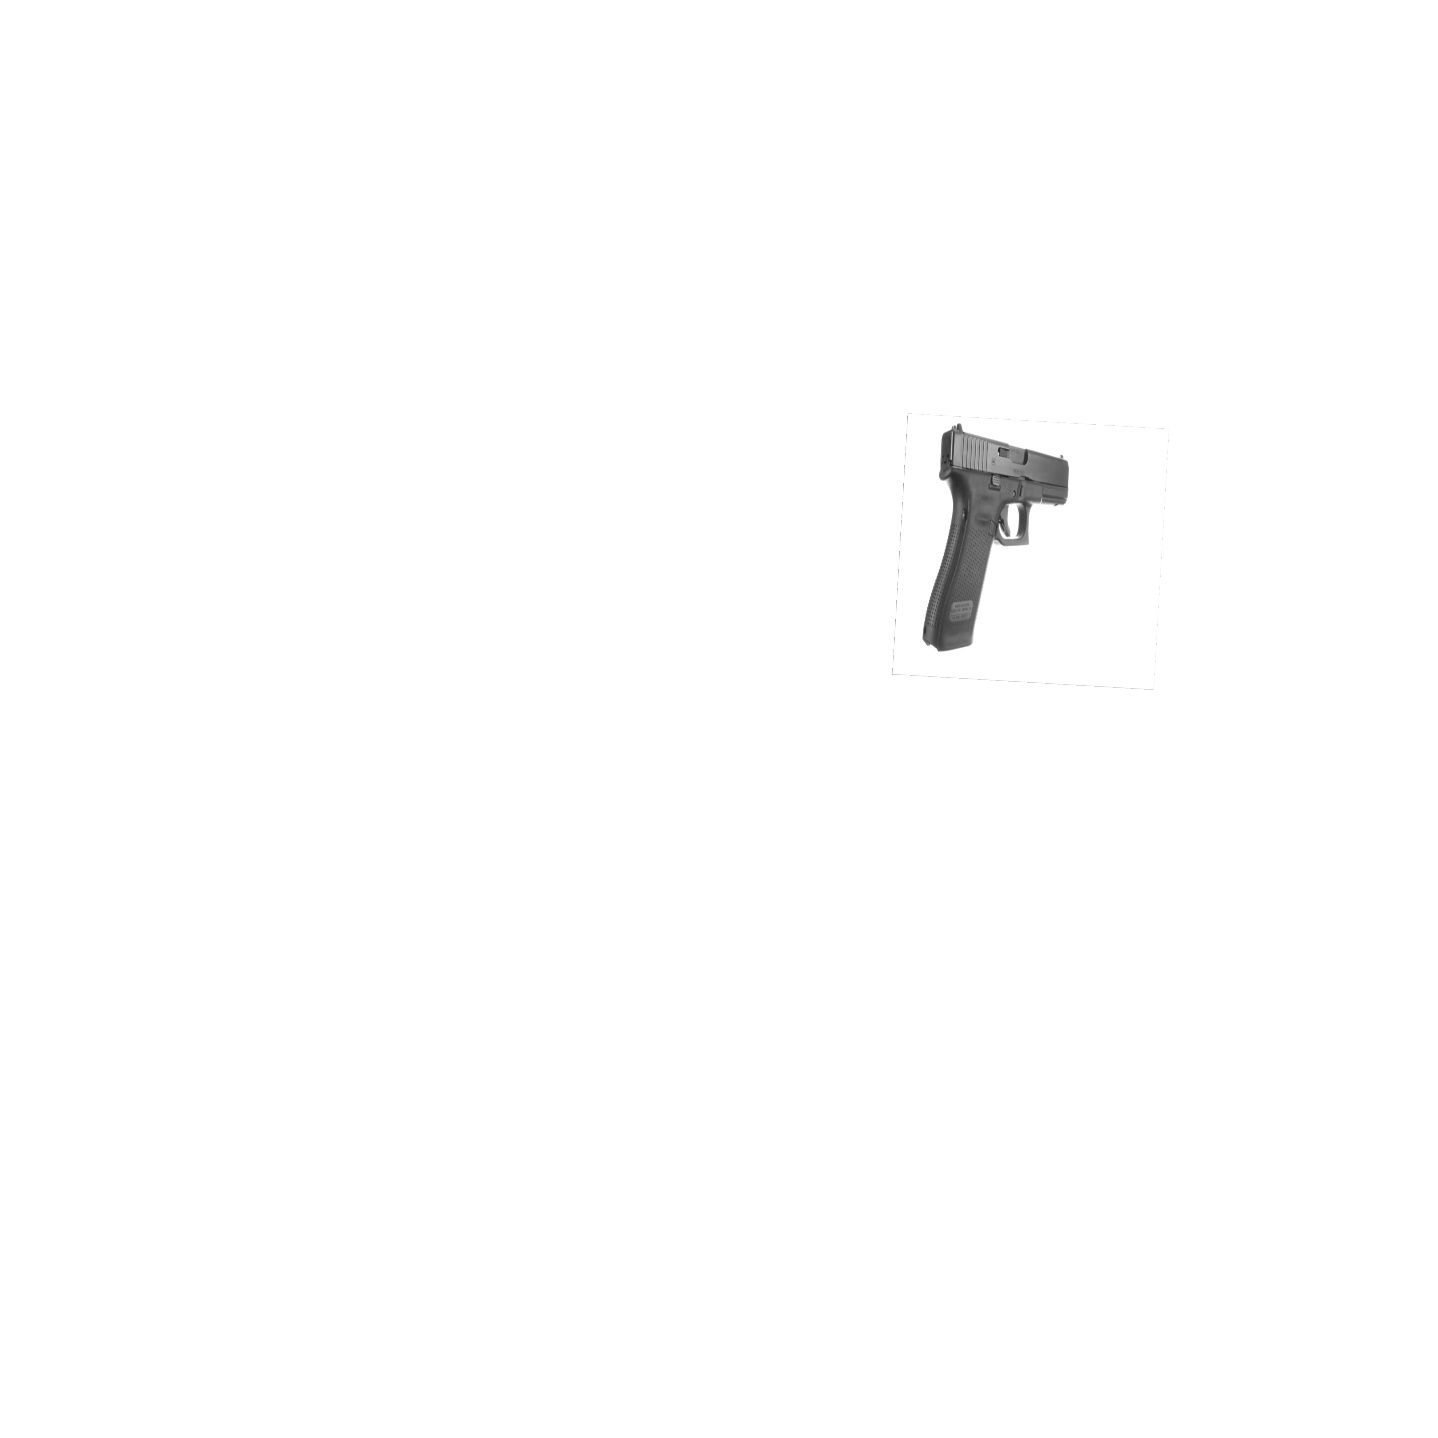gun: (909, 410, 1084, 660)
